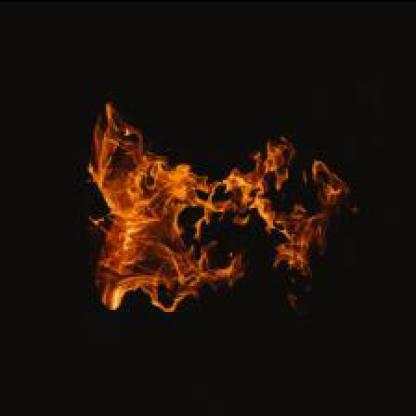Fire: (76, 88, 361, 337)
